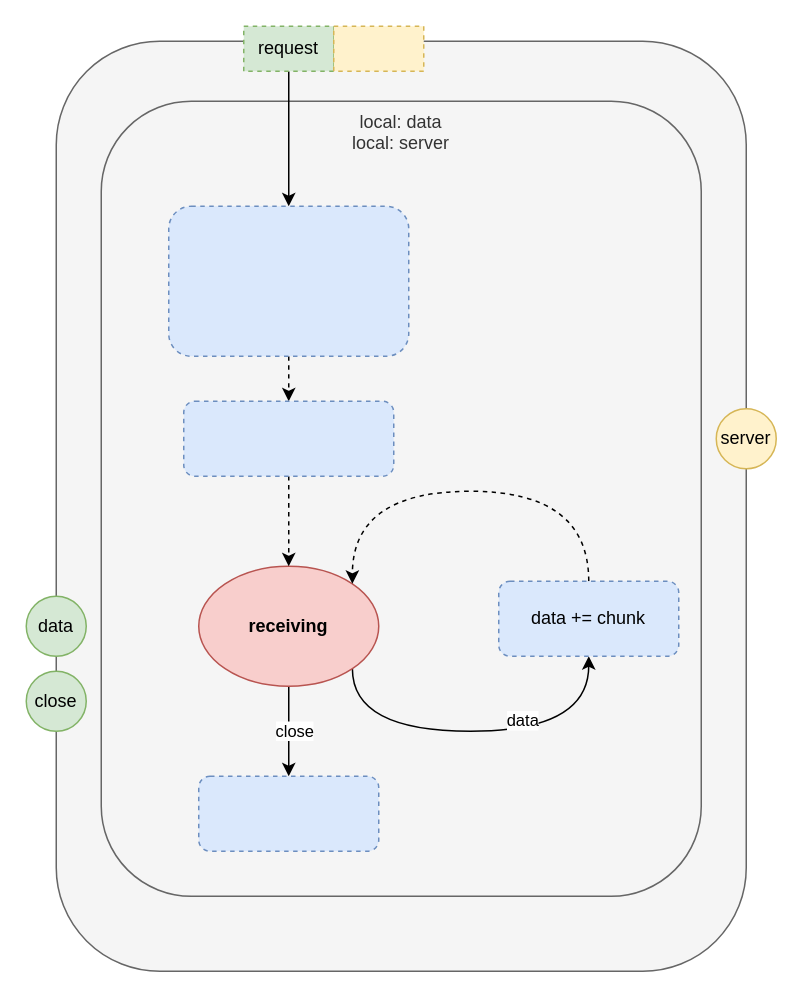
This 803x998 diagram has some shape labels left out. The shapes that lost their labels are listed below. From the top down, each one's centre as x and y in pixels, then its label:
(378,48): response
(288,280): Setup var data = ''; server.host = "localhost"; server.port = 8000;
(288,438): send {request, self} --> [server]
(288,813): send {data, from} --> [response]
